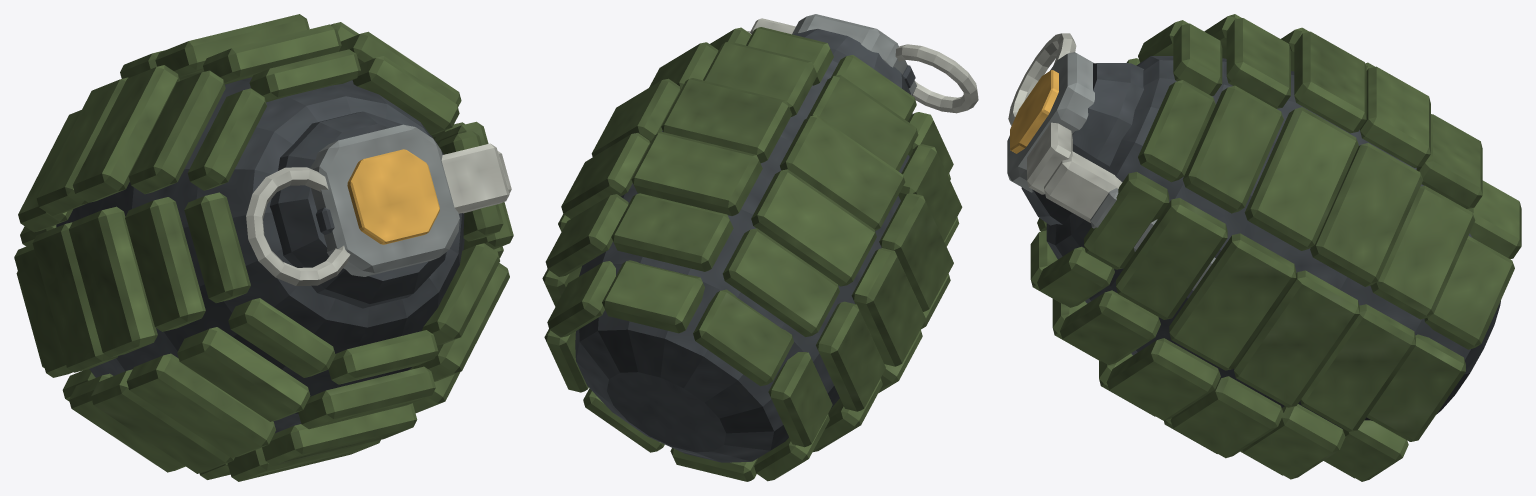
The model's file is Grenade.glb.
The picture shows the model from 3 angles, left to right: view 1: azimuth 30°, elevation 25°; view 2: azimuth 150°, elevation 25°; view 3: azimuth 270°, elevation 25°; orthographic projection. The views are drawn at different scales.
Visible parts, largest first — view 1: Oval fragmentation shell, Igniter cap, Dark neck, Raised cast segment.028, Raised cast segment.029, Raised cast segment.036, Orange head plate, Raised cast segment.027, Raised cast segment.037, Raised cast segment.035, Raised cast segment.020, Raised cast segment.021 (+24 smaller); view 2: Oval fragmentation shell, Raised cast segment.019, Raised cast segment.027, Raised cast segment.018, Raised cast segment.011, Raised cast segment.026, Raised cast segment.010, Raised cast segment.003, Raised cast segment.020, Raised cast segment.002, Raised cast segment.035, Raised cast segment.012 (+22 smaller); view 3: Oval fragmentation shell, Raised cast segment.024, Raised cast segment.025, Raised cast segment.016, Raised cast segment.017, Raised cast segment.032, Raised cast segment.008, Raised cast segment.033, Raised cast segment.009, Raised cast segment.031, Raised cast segment, Raised cast segment.001 (+22 smaller).
Boxes of the visible parts, <box> form: Oval fragmentation shell: <box>56,77,464,433</box>; Igniter cap: <box>310,124,459,276</box>; Dark neck: <box>270,111,446,308</box>; Raised cast segment.028: <box>69,206,157,357</box>; Raised cast segment.029: <box>126,353,275,457</box>; Raised cast segment.036: <box>125,197,205,331</box>; Orange head plate: <box>347,149,439,244</box>; Raised cast segment.027: <box>73,65,179,202</box>; Raised cast segment.037: <box>177,327,310,421</box>; Raised cast segment.035: <box>128,70,225,194</box>; Raised cast segment.020: <box>32,222,117,372</box>; Raised cast segment.021: <box>91,369,234,473</box>; Oval fragmentation shell: <box>575,60,909,462</box>; Raised cast segment.019: <box>751,169,876,286</box>; Raised cast segment.027: <box>780,115,905,230</box>; Raised cast segment.018: <box>631,132,762,215</box>; Raised cast segment.011: <box>722,228,839,336</box>; Raised cast segment.026: <box>661,78,792,163</box>; Raised cast segment.010: <box>611,193,733,271</box>; Raised cast segment.003: <box>693,289,793,386</box>; Raised cast segment.020: <box>851,248,925,366</box>; Raised cast segment.002: <box>602,260,704,333</box>; Raised cast segment.035: <box>807,75,918,171</box>; Raised cast segment.012: <box>816,301,885,411</box>; Oval fragmentation shell: <box>1046,56,1500,428</box>; Raised cast segment.024: <box>1169,233,1296,370</box>; Raised cast segment.025: <box>1244,107,1358,250</box>; Raised cast segment.016: <box>1234,270,1359,407</box>; Raised cast segment.017: <box>1310,143,1423,286</box>; Raised cast segment.032: <box>1116,198,1227,319</box>; Raised cast segment.008: <box>1300,304,1415,431</box>; Raised cast segment.033: <box>1182,85,1283,213</box>; Raised cast segment.009: <box>1370,185,1475,319</box>; Raised cast segment.031: <box>1106,338,1220,420</box>; Raised cast segment: <box>1366,334,1465,441</box>; Raised cast segment.001: <box>1424,236,1514,349</box>.
Size of the model in its own units: 0.2344 by 0.2714 by 0.3013.
Materials: 1 (1 with a texture image).
